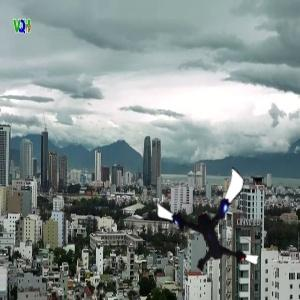drone: (154, 173, 260, 279)
